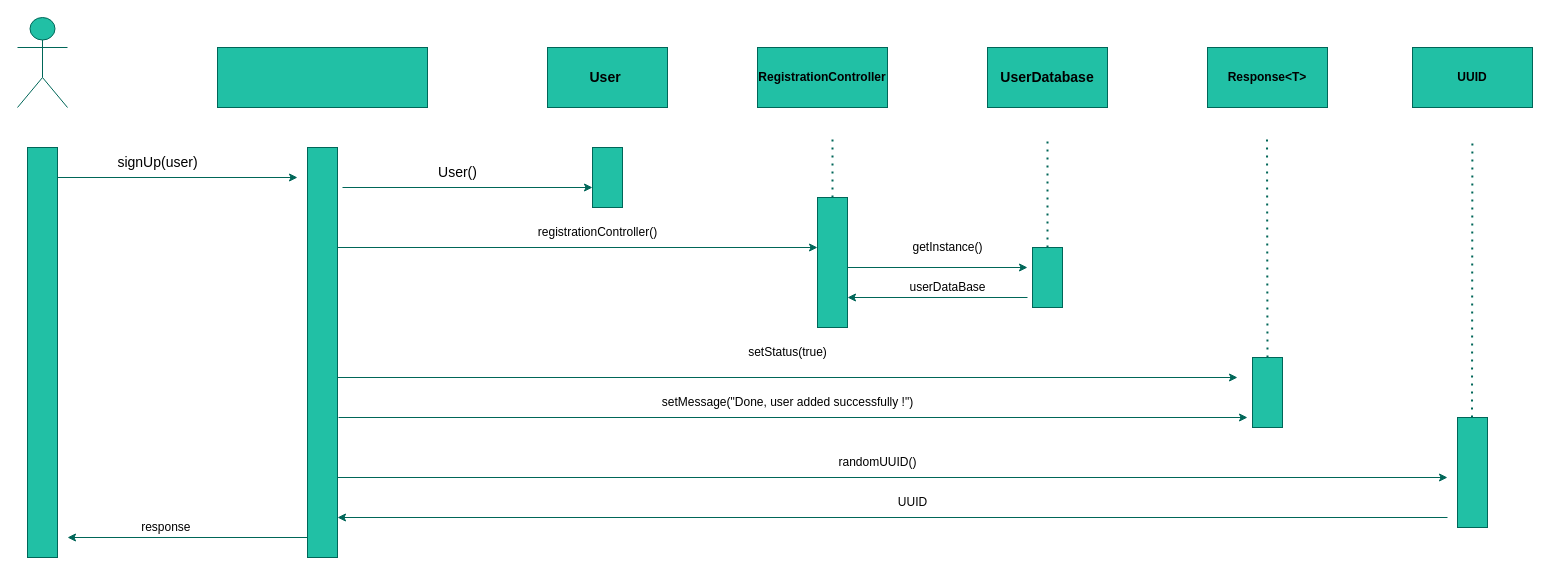
The diagram is 1550 pixels wide and 575 high, and some of its shapes have lost their labels. Each missing label, with the centre of its shape:
"Actor" goes at (42,62).
"SpringRegistrationControoller" goes at (322,77).
